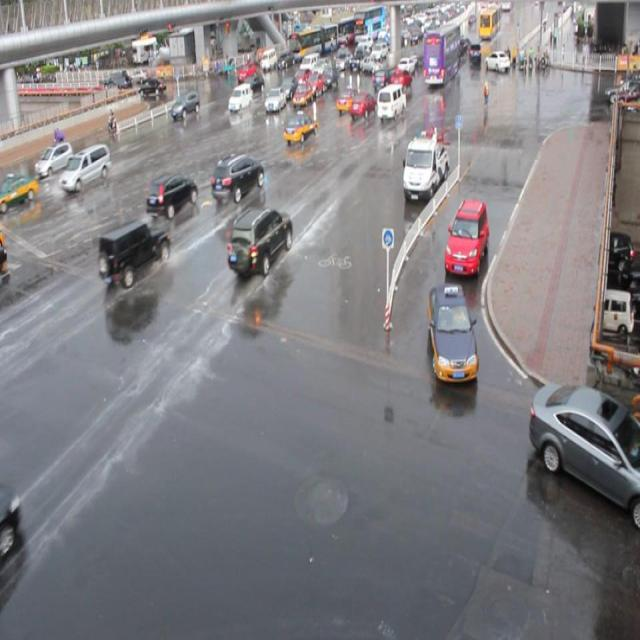bus: (401, 133, 446, 201)
car: (528, 380, 640, 521), (426, 282, 478, 382), (97, 218, 171, 288), (225, 204, 293, 277), (443, 199, 488, 274), (209, 152, 264, 204), (145, 171, 198, 220), (58, 143, 111, 191), (35, 140, 74, 175), (1, 173, 38, 209), (282, 109, 318, 142), (170, 90, 200, 119), (349, 90, 376, 119), (336, 84, 362, 112), (264, 90, 286, 114), (241, 73, 264, 95), (292, 84, 312, 109), (306, 74, 324, 97), (279, 78, 297, 100), (293, 69, 310, 91)
truck: (376, 83, 406, 120), (227, 82, 252, 110)
